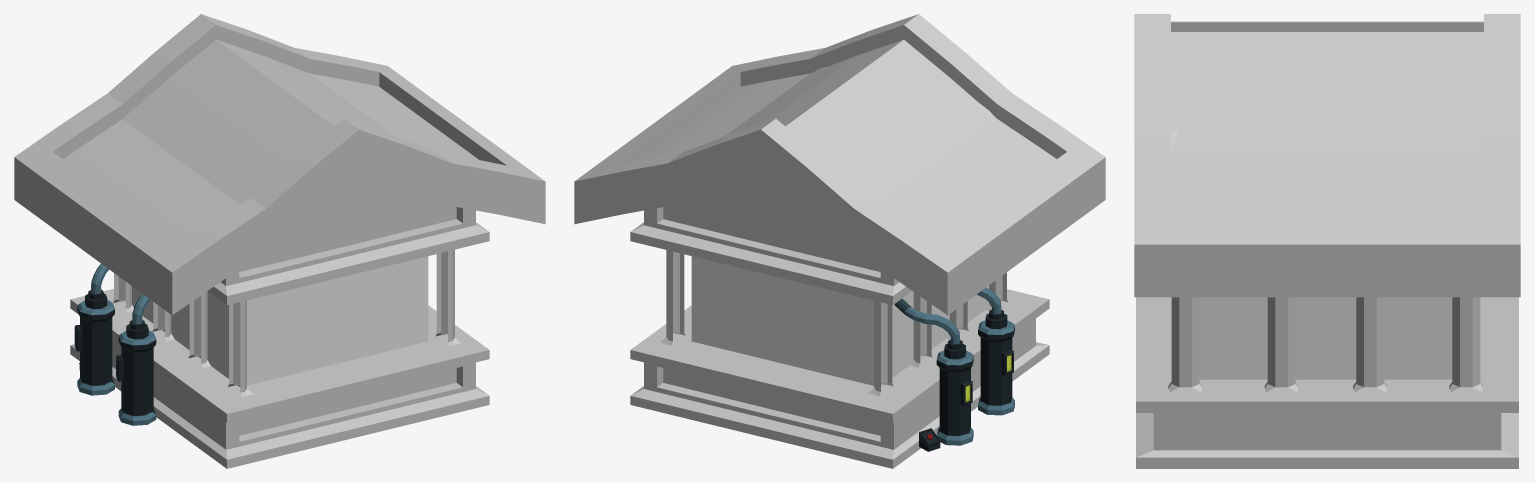
Rendered from dortoir.fbx.
The picture shows the model from 3 angles, left to right: view 1: azimuth 30°, elevation 25°; view 2: azimuth 150°, elevation 25°; view 3: azimuth 270°, elevation 25°; orthographic projection. The views are drawn at different scales.
Parts seen in each view (by area): view 1: base, champ, battery_ferme.001, battery_ferme.002; view 2: base, champ, battery_ferme.001, battery_ferme.002; view 3: base, champ.
Part boxes in pixels (bbox=[...]): base: bbox=[14, 14, 545, 468]; champ: bbox=[132, 256, 428, 386]; battery_ferme.001: bbox=[74, 263, 114, 395]; battery_ferme.002: bbox=[116, 294, 156, 425]; base: bbox=[574, 14, 1105, 468]; champ: bbox=[691, 256, 988, 385]; battery_ferme.001: bbox=[894, 298, 973, 451]; battery_ferme.002: bbox=[976, 287, 1014, 415]; base: bbox=[1134, 14, 1520, 468]; champ: bbox=[1199, 297, 1452, 379].
Size of the model in its own units: 1376 by 1083 by 1008.
